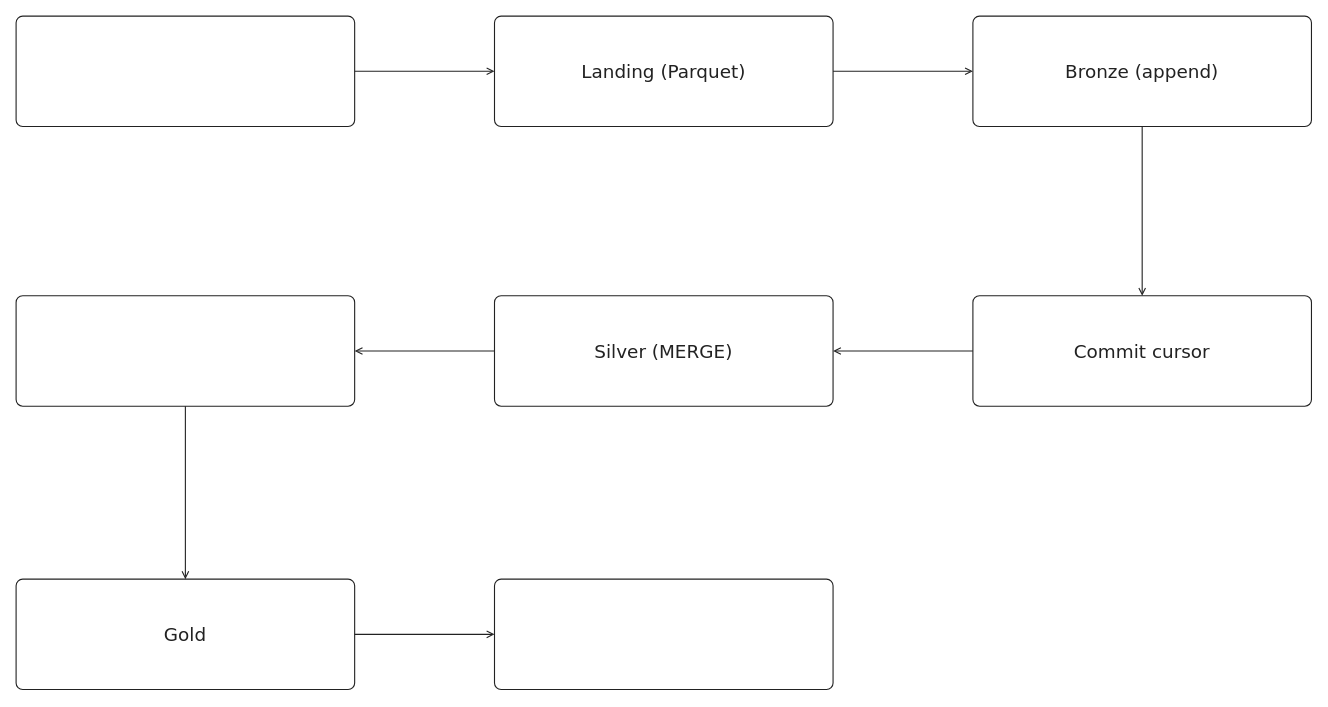
Some shapes in this 1328 by 707 pixel diagram are drawn without their labels. The shapes that lost their labels are listed below. From the top down, each one's centre as x and y in pixels, then its label:
point 185,71: MySQL / Spark JDBC
point 185,350: Đối soát MySQL–Silver
point 663,634: Kiểm tra chất lượng Gold
